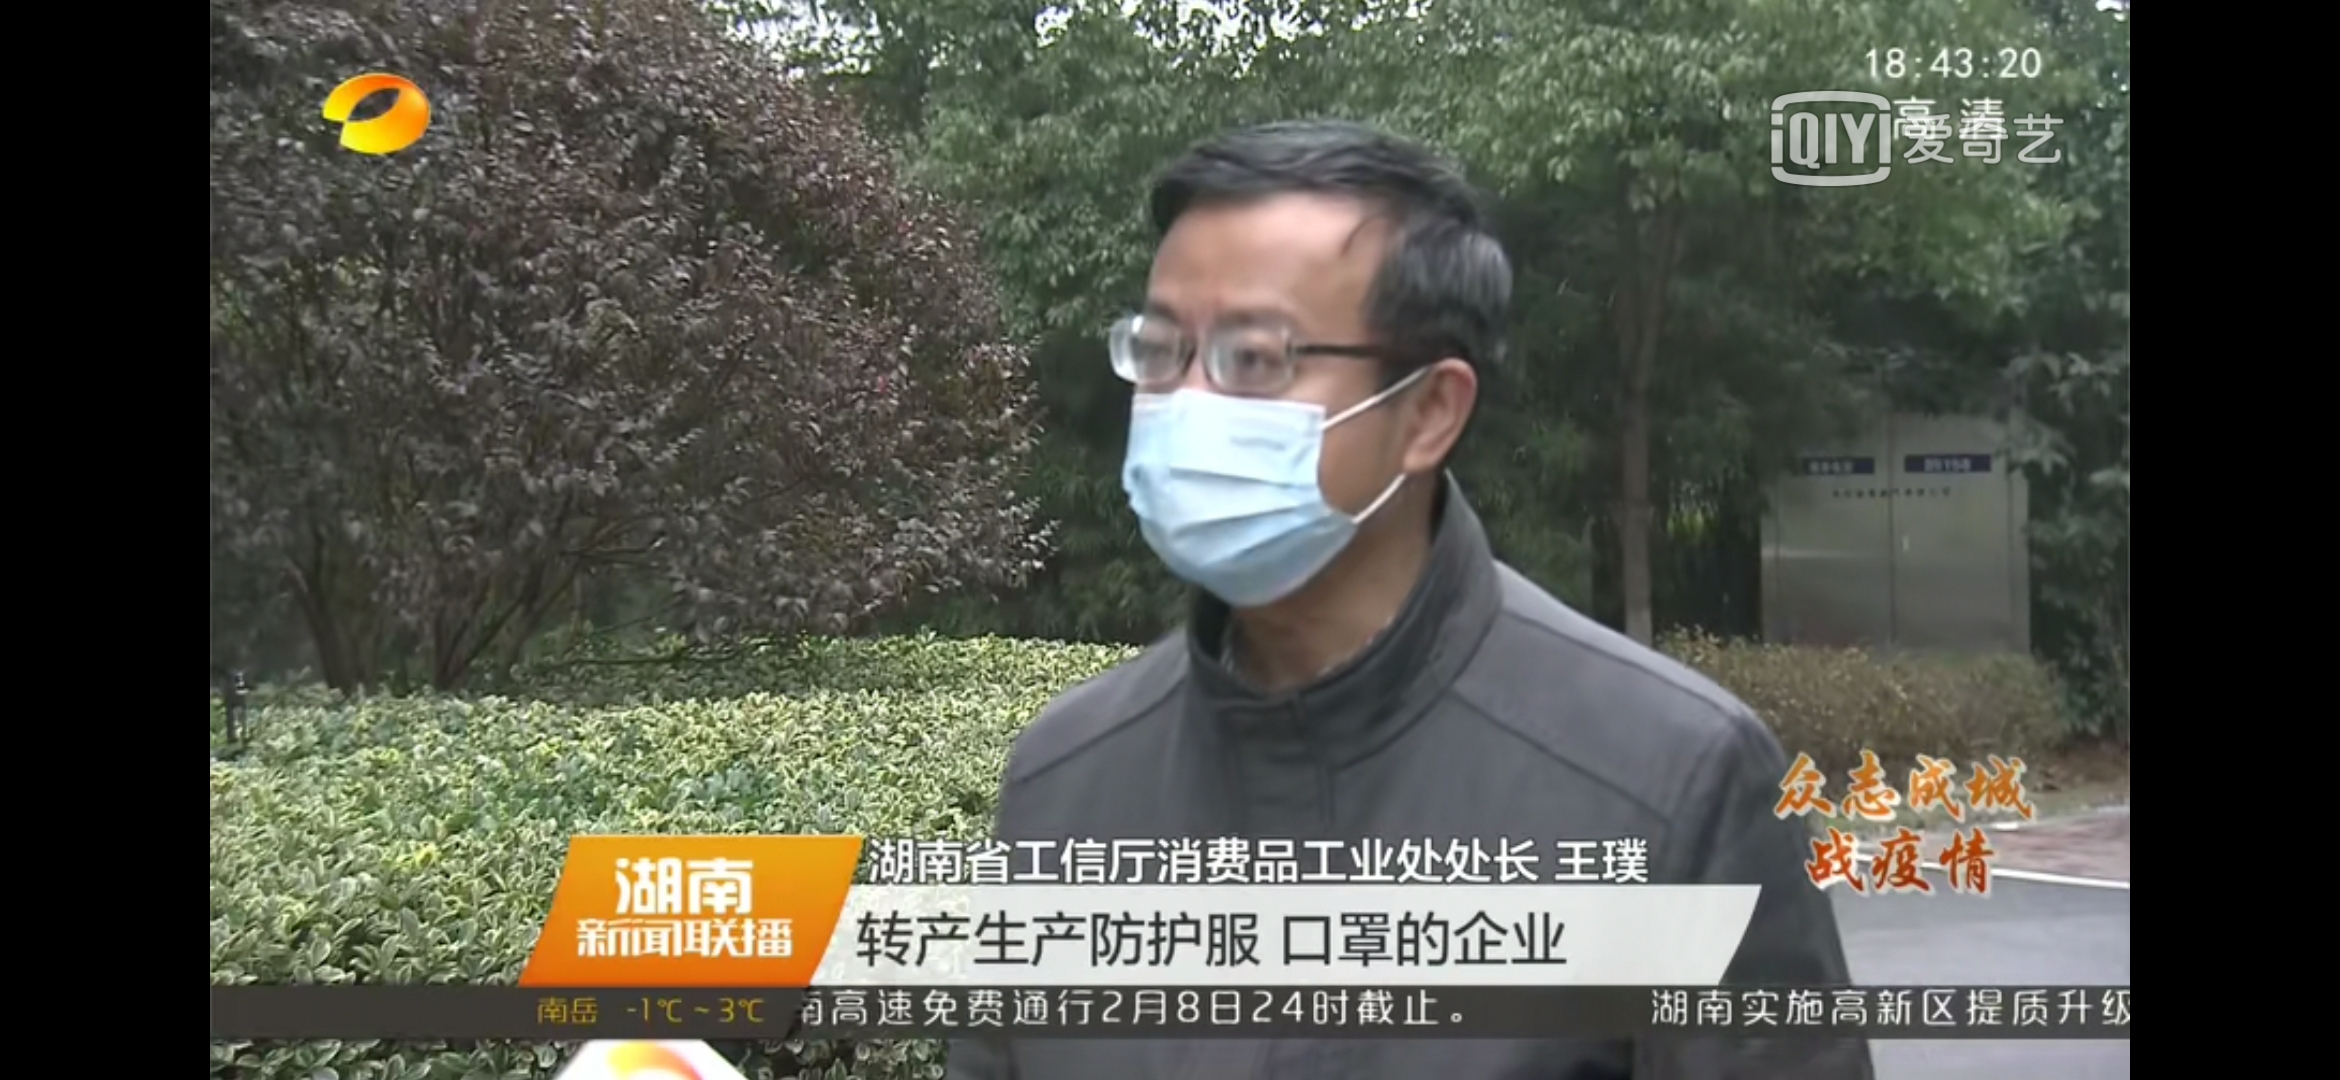correctlyWear: (1104, 257, 1476, 618)
